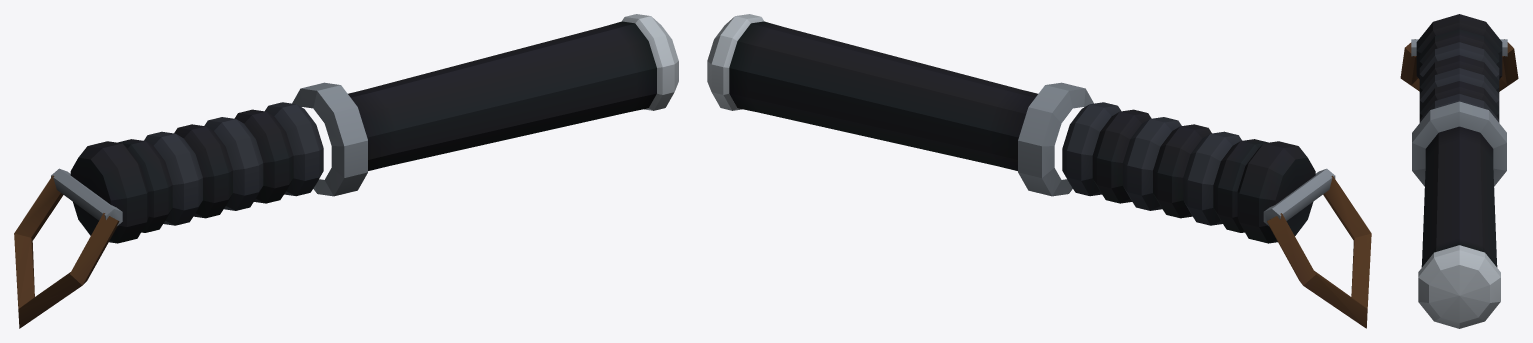
Rendered from baton.glb.
The picture shows the model from 3 angles, left to right: view 1: azimuth 30°, elevation 25°; view 2: azimuth 150°, elevation 25°; view 3: azimuth 270°, elevation 25°; orthographic projection. The views are drawn at different scales.
Parts seen in each view (by area): view 1: Body; view 2: Body; view 3: Body.
Boxes of the visible parts, box(x1,y1,x2,y2) form: Body: box(14, 14, 678, 328); Body: box(707, 14, 1371, 328); Body: box(1400, 14, 1518, 328).
Bounding box in the file's own units: 0.8139 × 0.1989 × 0.1466.
